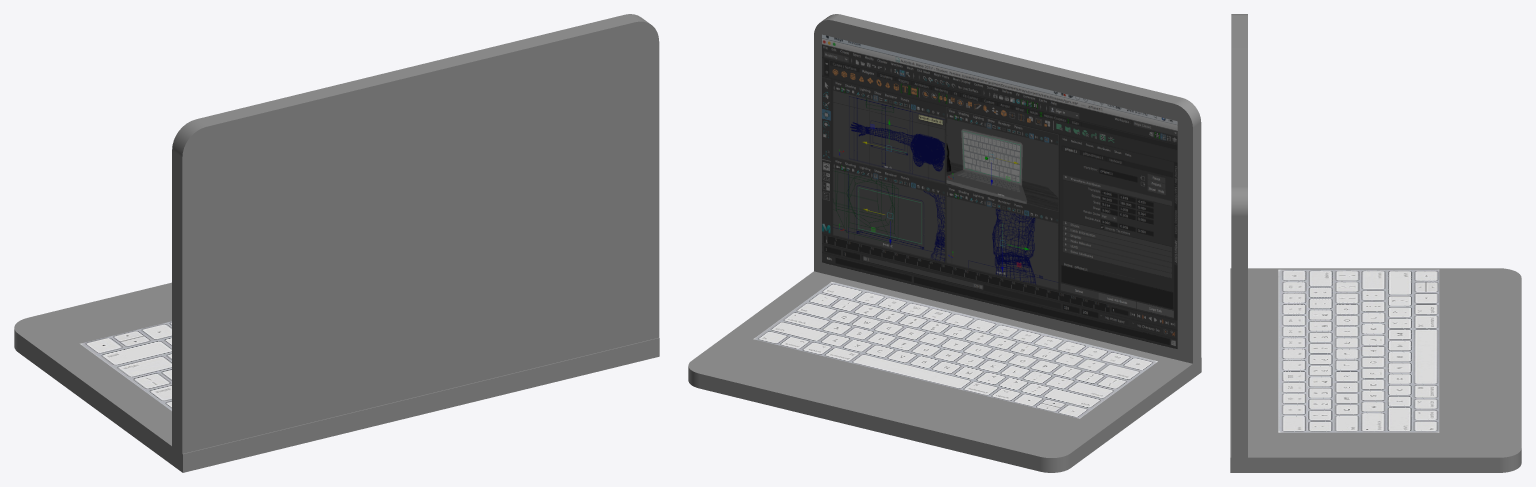
File: laptop.fbx
The picture shows the model from 3 angles, left to right: view 1: azimuth 30°, elevation 25°; view 2: azimuth 150°, elevation 25°; view 3: azimuth 270°, elevation 25°; orthographic projection. The views are drawn at different scales.
Visible parts, largest first — view 1: pPlane12; view 2: pPlane12; view 3: pPlane12.
Boxes of the visible parts, left/top/right/bottom form: pPlane12: left=14, top=14, right=659, bottom=472; pPlane12: left=688, top=14, right=1201, bottom=472; pPlane12: left=1230, top=14, right=1521, bottom=472.
Size of the model in its own units: 0.6333 by 0.4315 by 0.4111.
